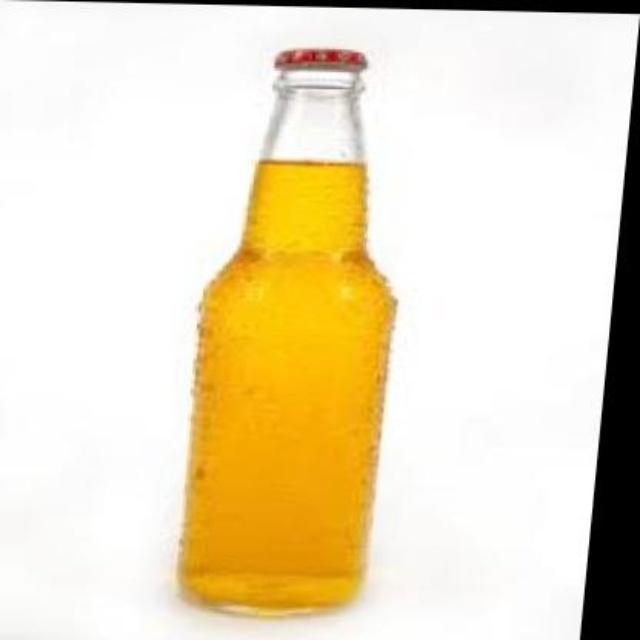trash: (180, 49, 394, 612)
